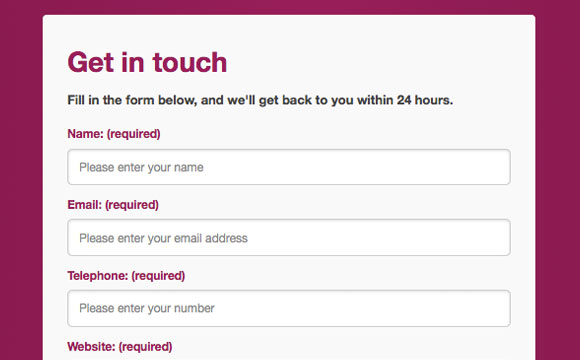_form_: (61, 7, 530, 360)
field: (66, 288, 512, 328), (66, 216, 511, 256), (66, 148, 511, 186)
